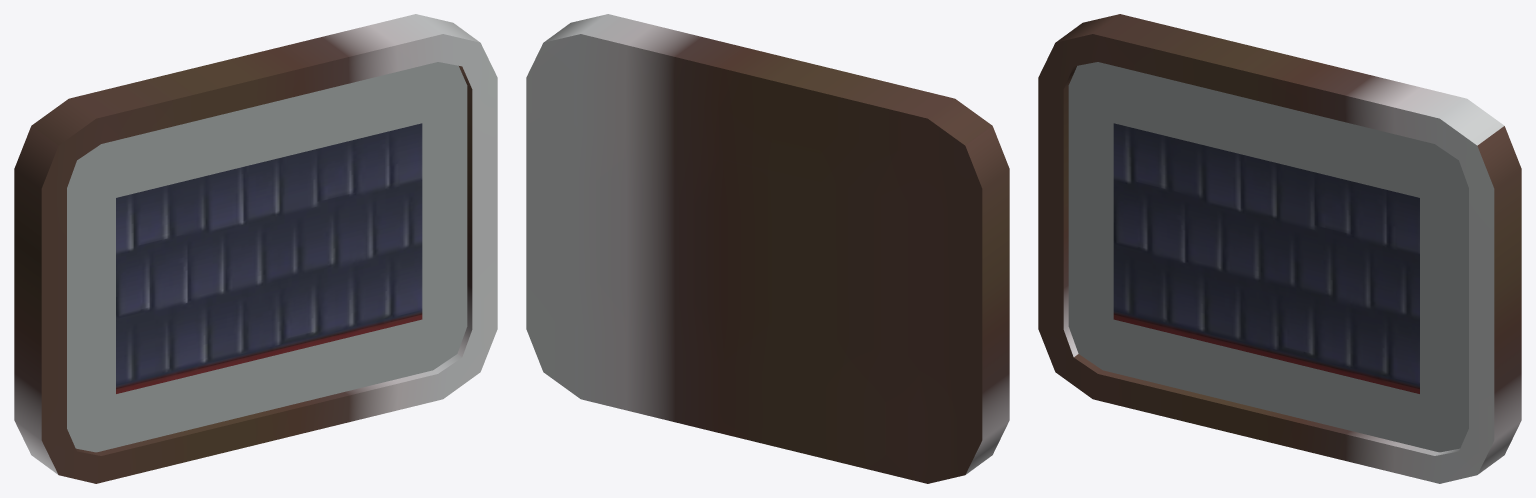
The model's file is pm-floor-panel-01.glb.
The picture shows the model from 3 angles, left to right: view 1: azimuth 30°, elevation 25°; view 2: azimuth 150°, elevation 25°; view 3: azimuth 330°, elevation 25°; orthographic projection.
Visible parts, largest first — view 1: FloorPanel01_Art; view 2: FloorPanel01_Art; view 3: FloorPanel01_Art.
Part boxes in pixels (x1=…): FloorPanel01_Art: x1=14, y1=14, x2=497, y2=483; FloorPanel01_Art: x1=526, y1=14, x2=1009, y2=483; FloorPanel01_Art: x1=1038, y1=14, x2=1521, y2=483.
Size of the model in its own units: 1.19 by 0.9104 by 0.1233.
2 materials, 2 textured.
